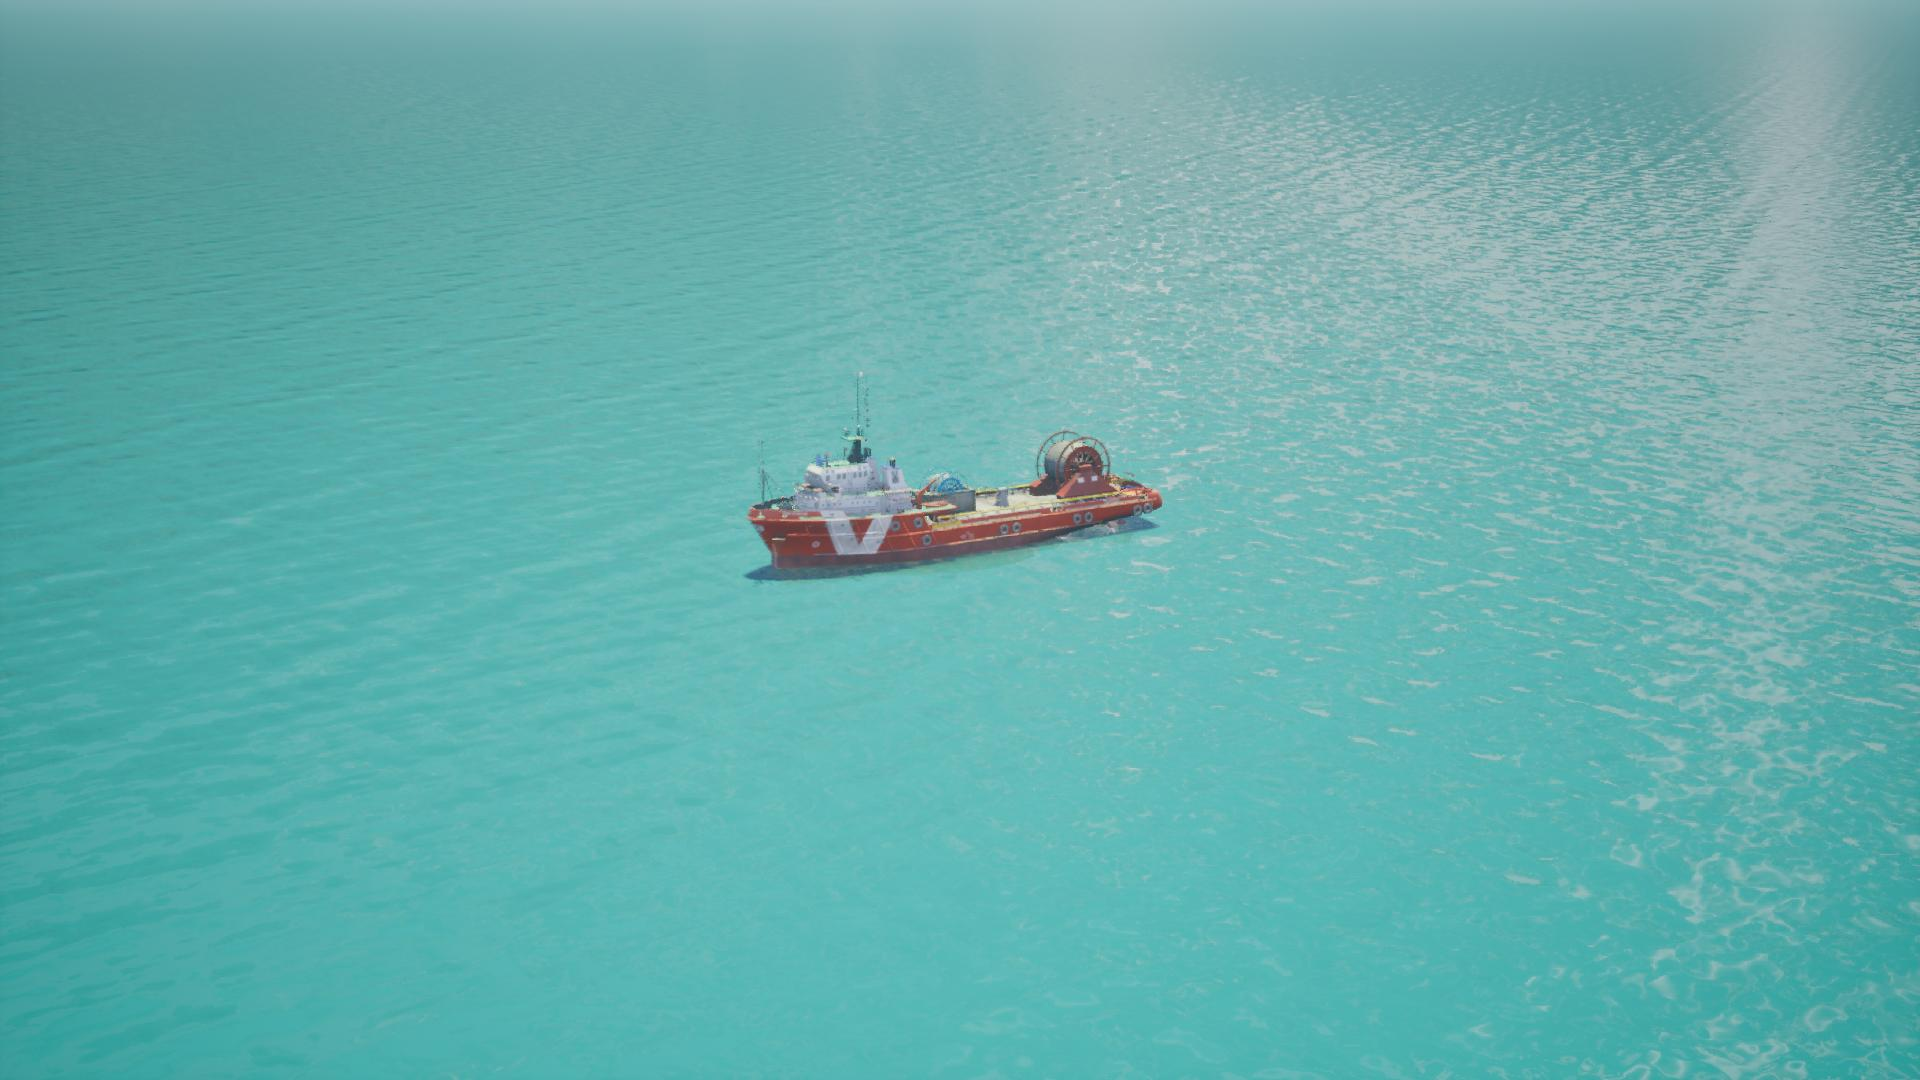Tug Boat: (745, 439, 1160, 580)
